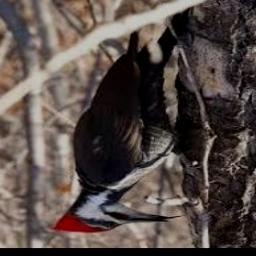Woodpecker: (53, 9, 184, 233)
